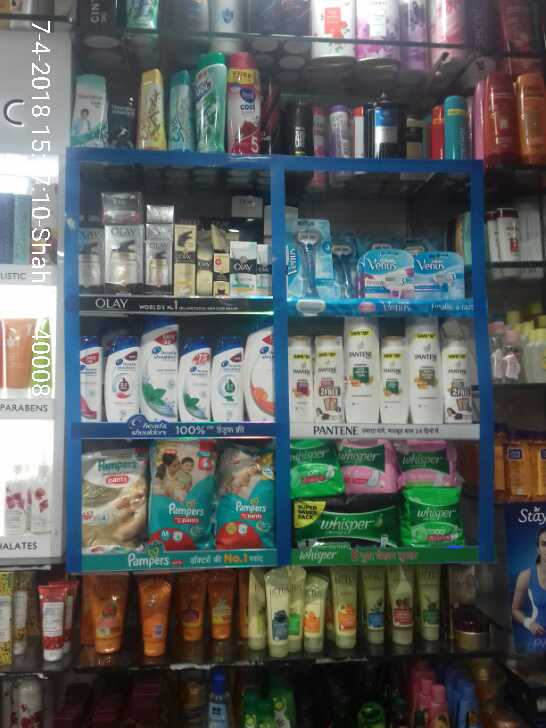venus: (287, 217, 332, 300), (358, 250, 413, 299), (413, 253, 463, 299), (334, 235, 358, 300)
